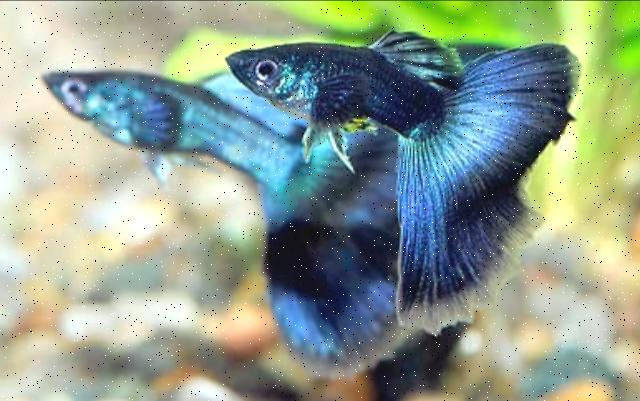Mulut: (212, 33, 256, 88), (27, 59, 67, 106)
Sirip Anal: (171, 140, 231, 184), (328, 118, 364, 182)
Sirip Dada: (296, 58, 374, 140), (114, 86, 192, 154)
Sirip Ekor: (387, 38, 597, 344)
Sirip Perut: (288, 110, 326, 174), (142, 146, 176, 201)
Sirip Punggung: (364, 20, 470, 102)
